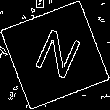N_SW: (27, 24, 83, 86)
